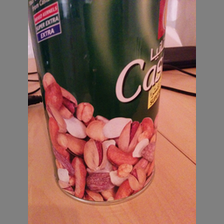nuts: (28, 1, 167, 205)
